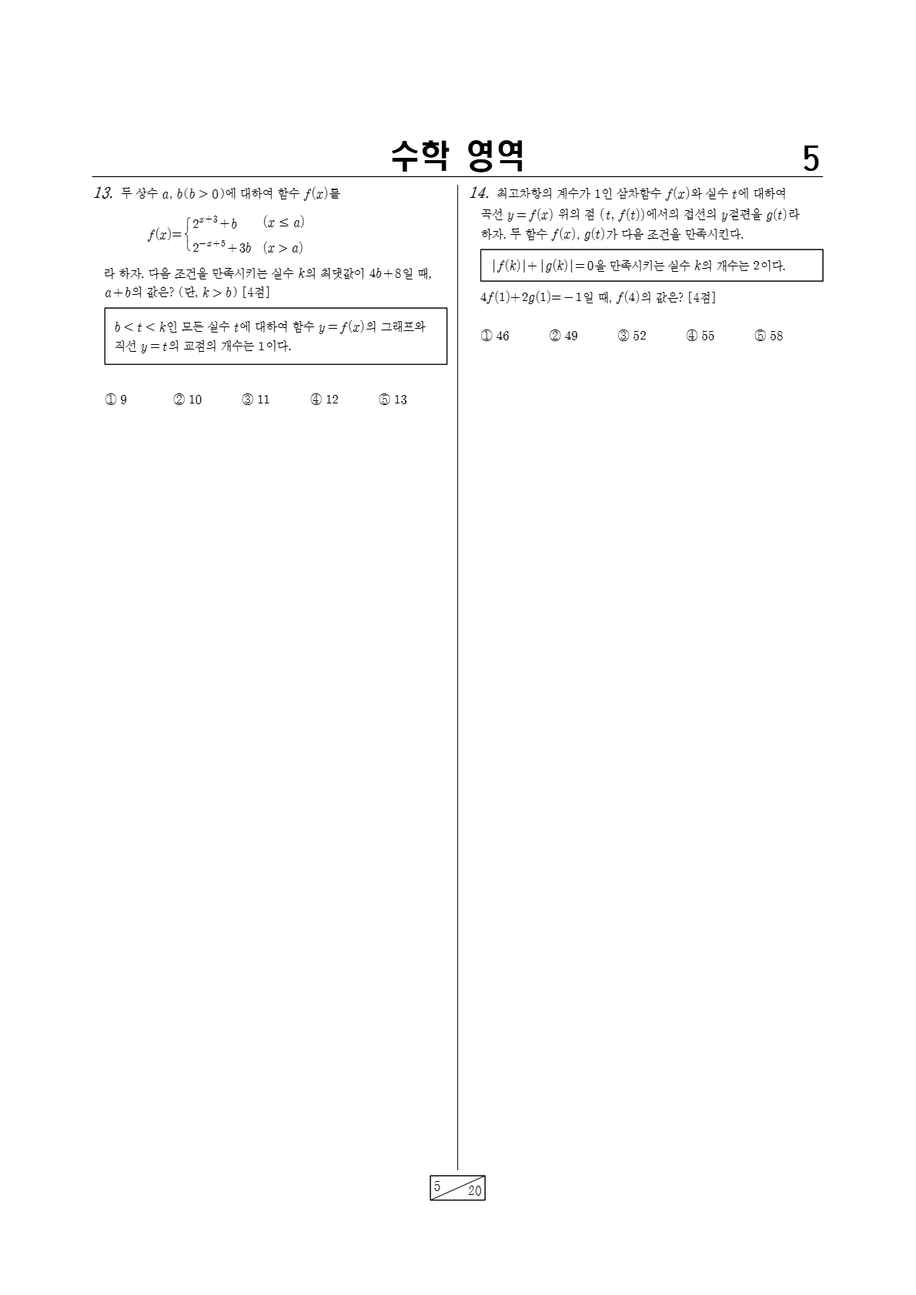opt_1: (103, 391, 118, 407), (480, 328, 492, 341)
opt_2: (172, 392, 185, 405), (550, 328, 560, 341)
opt_3: (241, 392, 253, 406), (617, 328, 629, 341)
opt_4: (309, 392, 322, 405), (686, 328, 698, 341)
opt_5: (754, 328, 767, 342), (379, 392, 390, 406)
